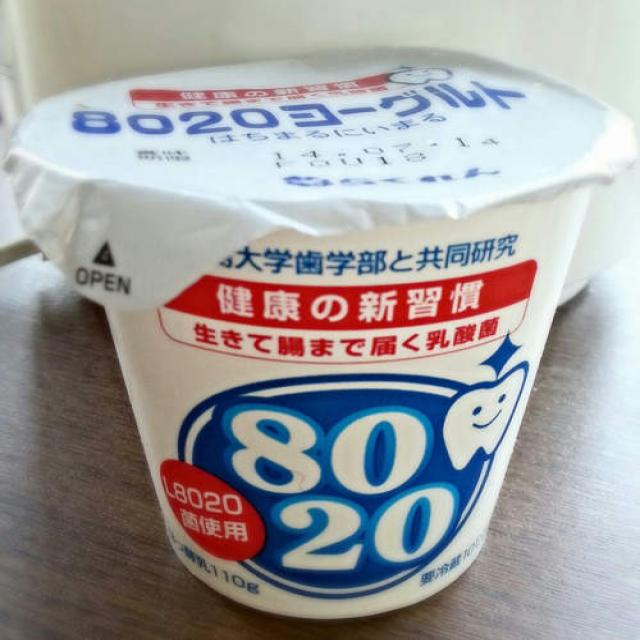plastic: (9, 48, 619, 622)
